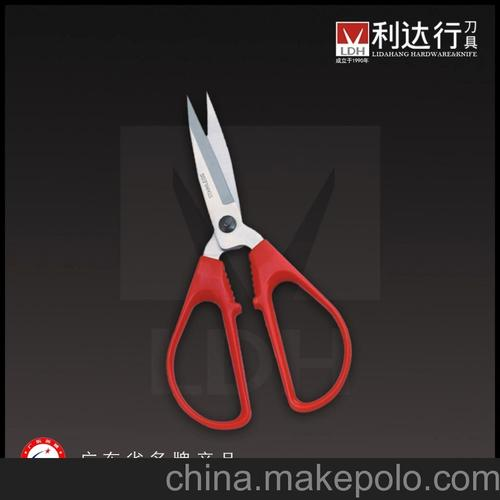scissor: (164, 92, 351, 431)
